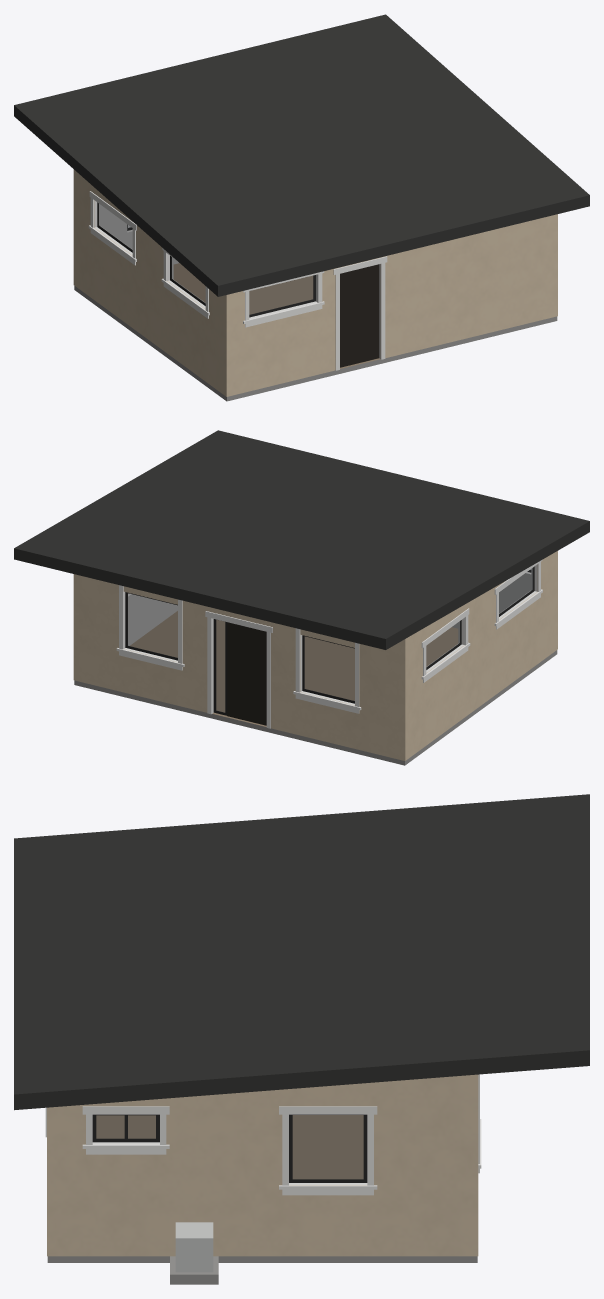
The model's file is laurel_a1_460_lod1.glb.
3 renders of one model, top to bottom at view 1: azimuth 30°, elevation 25°; view 2: azimuth 150°, elevation 25°; view 3: azimuth 270°, elevation 25°, orthographic. The views are drawn at different scales.
Visible parts, largest first — view 1: Roof_shed, Sheathing_rear, Sheathing_x0, Slab, Leaf_D-6, Trim_ext_siding_rear, Trim_ext_siding_x0, Glazing_W-C3, Glazing_W-C1, Wall_front, Glazing_W-C2, Wall_x0; view 2: Roof_shed, Sheathing_front, Sheathing_x0, Slab, Leaf_D-1, Trim_ext_siding_front, Glazing_W-A1, Glazing_W-A2, Trim_ext_siding_x0, Wall_x24, Glazing_D-1_sidelite, Wall_front (+5 smaller); view 3: Roof_shed, Sheathing_x24, Slab, Trim_ext_siding_x24, Glazing_W-D1, Equip_condenser, Glazing_W-E1, Sash_W-D1, Equip_pad, Sash_W-E1.
Boxes of the visible parts, x1,y1,x2,y2 form: Roof_shed: [14, 14, 589, 296]; Sheathing_rear: [226, 214, 557, 396]; Sheathing_x0: [74, 170, 226, 396]; Slab: [74, 263, 557, 401]; Leaf_D-6: [340, 264, 379, 367]; Trim_ext_siding_rear: [243, 256, 387, 370]; Trim_ext_siding_x0: [88, 191, 209, 318]; Glazing_W-C3: [249, 276, 312, 314]; Glazing_W-C1: [99, 204, 132, 249]; Wall_front: [100, 205, 178, 264]; Glazing_W-C2: [172, 257, 205, 302]; Wall_x0: [94, 200, 205, 308]; Roof_shed: [14, 430, 589, 649]; Sheathing_front: [73, 574, 405, 760]; Sheathing_x0: [405, 551, 557, 760]; Slab: [74, 611, 557, 765]; Leaf_D-1: [227, 622, 266, 725]; Trim_ext_siding_front: [116, 585, 361, 728]; Glazing_W-A1: [128, 593, 177, 657]; Glazing_W-A2: [305, 636, 354, 700]; Trim_ext_siding_x0: [421, 560, 542, 682]; Wall_x24: [128, 593, 177, 645]; Glazing_D-1_sidelite: [216, 620, 224, 712]; Wall_front: [123, 591, 354, 713]; Roof_shed: [14, 794, 589, 1110]; Sheathing_x24: [47, 1074, 477, 1256]; Slab: [47, 1115, 477, 1262]; Trim_ext_siding_x24: [82, 1106, 377, 1195]; Glazing_W-D1: [293, 1115, 363, 1178]; Equip_condenser: [175, 1222, 213, 1272]; Glazing_W-E1: [96, 1115, 155, 1138]; Sash_W-D1: [289, 1114, 367, 1182]; Equip_pad: [170, 1256, 218, 1284]; Sash_W-E1: [92, 1114, 159, 1142].
Bounding box in the file's own units: 8.37 × 3.45 × 7.82.
Materials: 11 (2 with a texture image).
